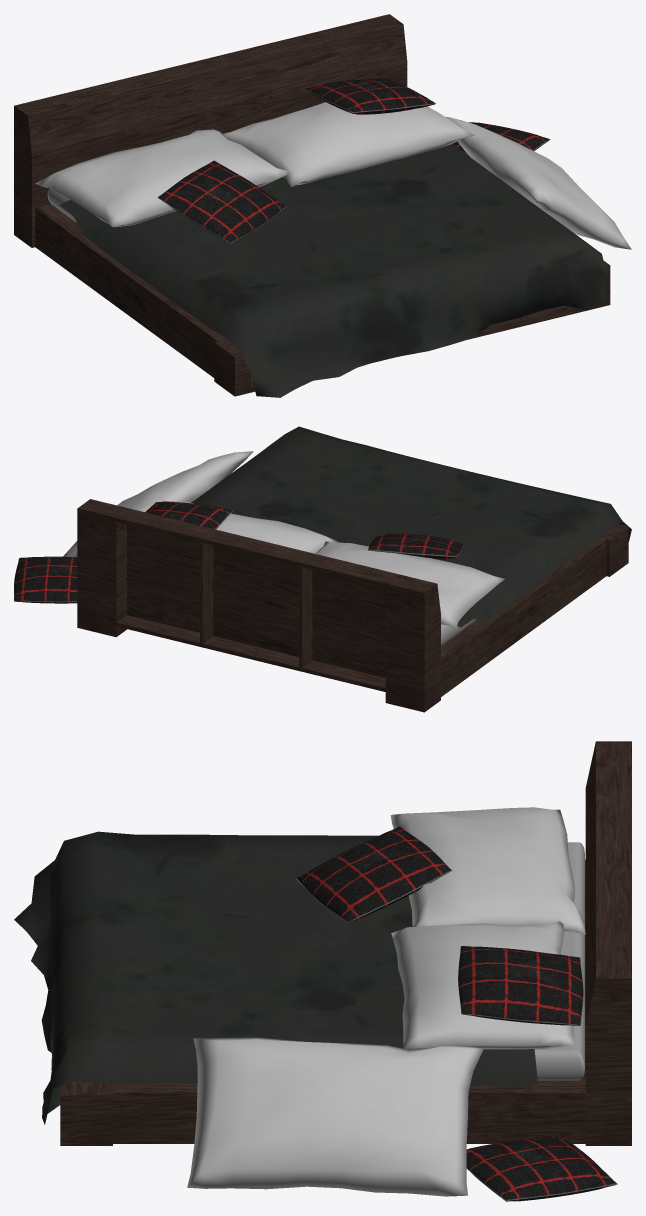
Rendered from bed.glb.
The picture shows the model from 3 angles, top to bottom: view 1: azimuth 30°, elevation 25°; view 2: azimuth 150°, elevation 25°; view 3: azimuth 270°, elevation 25°; orthographic projection. The views are drawn at different scales.
Parts seen in each view (by area): view 1: Bed, Pillow_2.001, Pillow_2, Pillow_2.002, Plane.001, Plane.000, Plane.002; view 2: Bed, Pillow_2, Pillow_2.002, Plane.002, Pillow_2.001, Plane.001, Plane.000; view 3: Bed, Pillow_2.002, Pillow_2, Pillow_2.001, Plane.000, Plane.001, Plane.002.
Boxes of the visible parts, box(x1,y1,x2,y2) form: Bed: box(14, 14, 610, 397); Pillow_2.001: box(221, 86, 474, 186); Pillow_2: box(35, 129, 287, 227); Pillow_2.002: box(446, 117, 631, 249); Plane.001: box(157, 160, 286, 243); Plane.000: box(305, 78, 435, 114); Plane.002: box(452, 122, 550, 156); Bed: box(77, 426, 631, 712); Pillow_2: box(315, 541, 505, 627); Pillow_2.002: box(63, 451, 253, 557); Plane.002: box(14, 556, 77, 603); Pillow_2.001: box(161, 501, 339, 553); Plane.001: box(368, 533, 463, 560); Plane.000: box(145, 501, 233, 529); Bed: box(14, 741, 631, 1145); Pillow_2.002: box(187, 1037, 484, 1196); Pillow_2: box(390, 807, 585, 934); Pillow_2.001: box(391, 921, 574, 1049); Plane.000: box(458, 946, 583, 1025); Plane.001: box(296, 826, 452, 922); Plane.002: box(466, 1136, 617, 1201).
Size of the model in its own units: 288 by 72.59 by 241.
5 materials, 4 textured.
